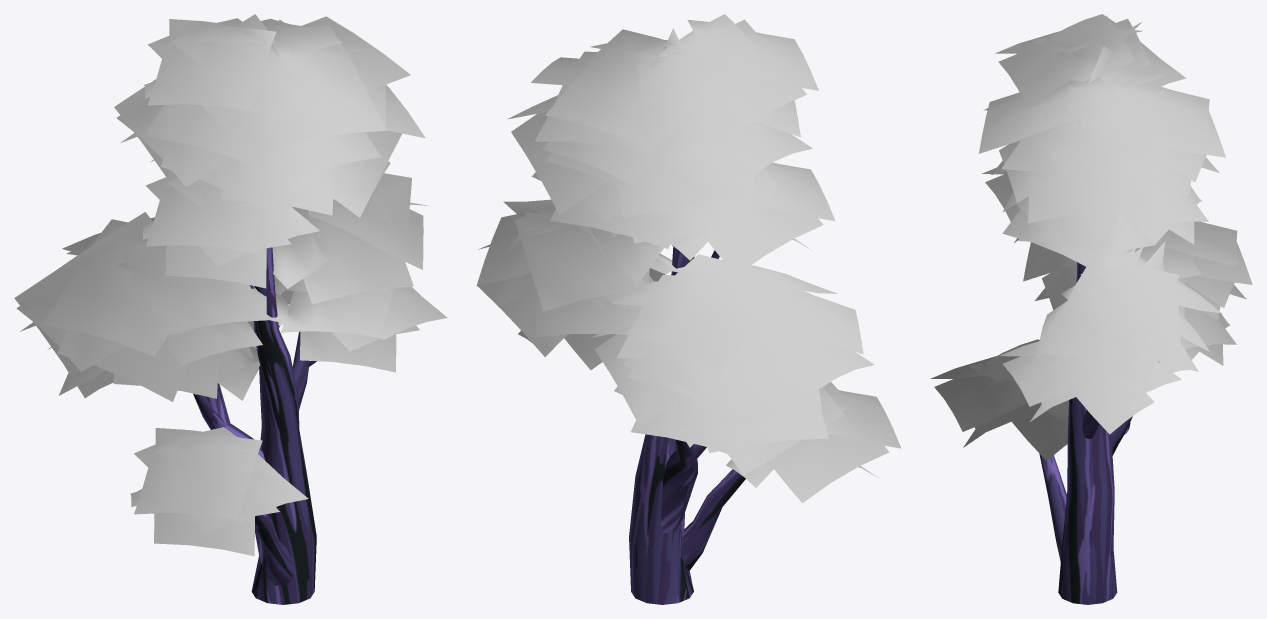
File: Lushtree_02.fbx
The picture shows the model from 3 angles, left to right: view 1: azimuth 30°, elevation 25°; view 2: azimuth 150°, elevation 25°; view 3: azimuth 270°, elevation 25°; orthographic projection. The views are drawn at different scales.
Visible parts, largest first — view 1: lushleaf_02, Lushtree_02; view 2: lushleaf_02, Lushtree_02; view 3: lushleaf_02, Lushtree_02.
Boxes of the visible parts, x1=… form: lushleaf_02: x1=14, y1=14, x2=447, y2=556; Lushtree_02: x1=193, y1=247, x2=316, y2=604; lushleaf_02: x1=476, y1=14, x2=901, y2=503; Lushtree_02: x1=629, y1=245, x2=745, y2=604; lushleaf_02: x1=930, y1=14, x2=1252, y2=460; Lushtree_02: x1=1039, y1=262, x2=1132, y2=604.
Bounding box in the file's own units: 343 × 491 × 267.
